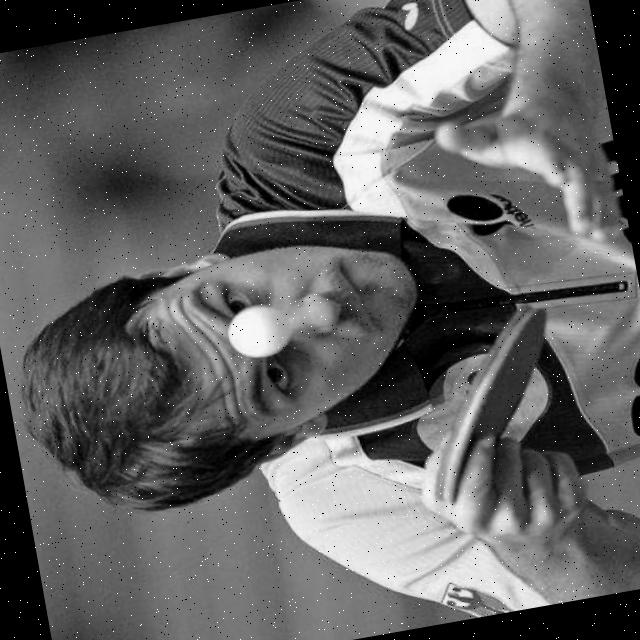ping-pong-ball: (217, 293, 300, 364)
